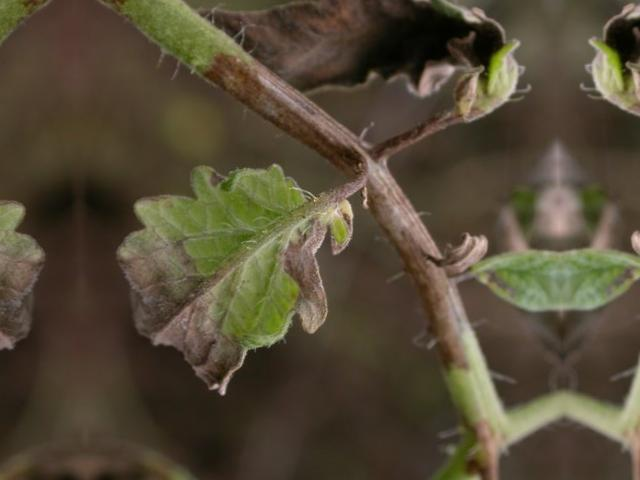Tomato leaf late blight: (103, 151, 354, 399)
